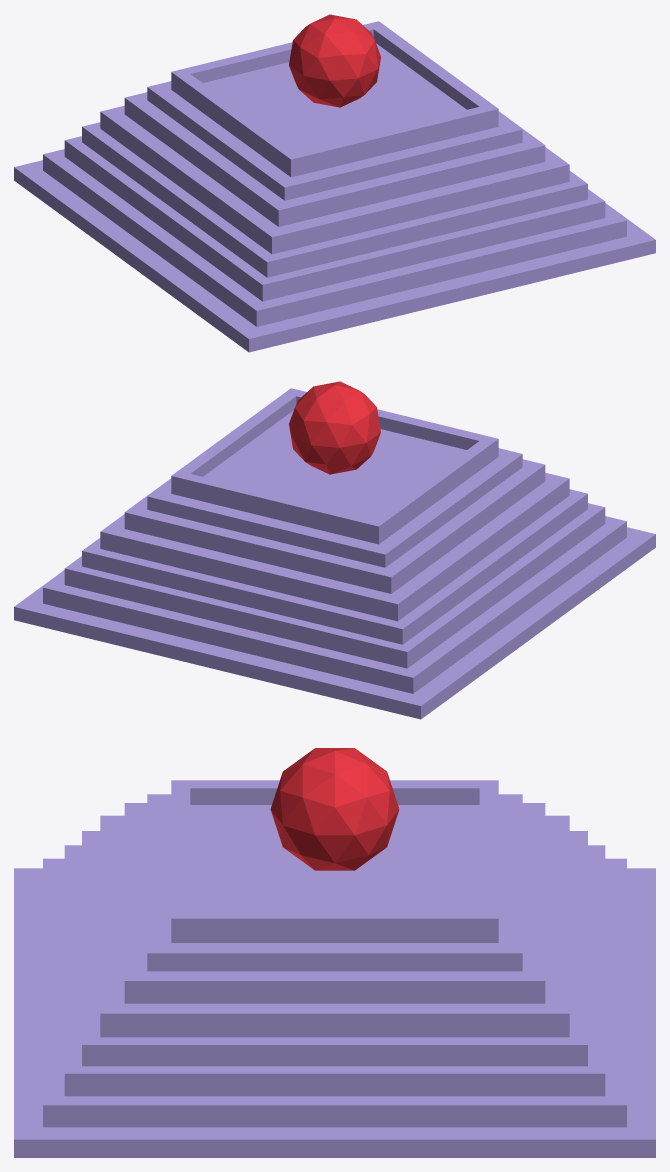
3 views of the same model, one above another, from view 1: azimuth 30°, elevation 25°; view 2: azimuth 150°, elevation 25°; view 3: azimuth 270°, elevation 25° (orthographic). The views are drawn at different scales.
Visible parts, largest first — view 1: Plane, Icosphere; view 2: Plane, Icosphere; view 3: Plane, Icosphere.
Part boxes in pixels (box(x1,y1,x2,y2)): Plane: box(14, 21, 655, 352); Icosphere: box(289, 14, 380, 107); Plane: box(14, 388, 655, 719); Icosphere: box(289, 381, 380, 474); Plane: box(14, 780, 655, 1157); Icosphere: box(270, 748, 399, 870).
Size of the model in its own units: 9.96 by 4.64 by 9.96.
